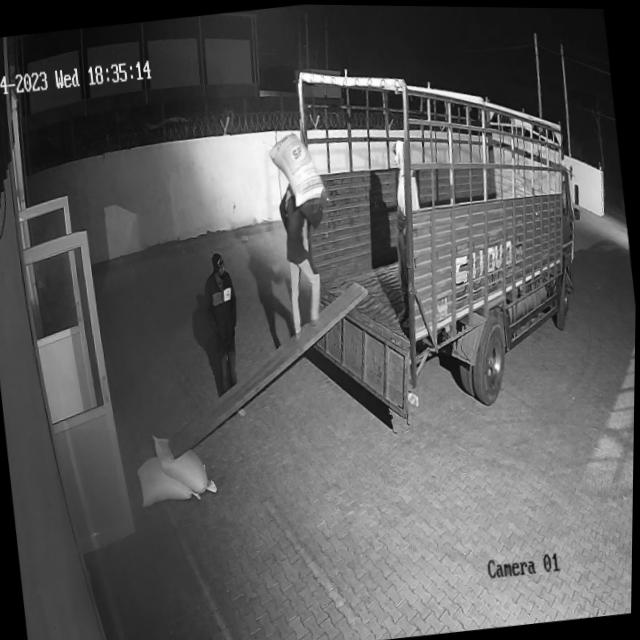sack: (266, 128, 327, 210), (152, 424, 219, 496), (136, 450, 201, 505)
